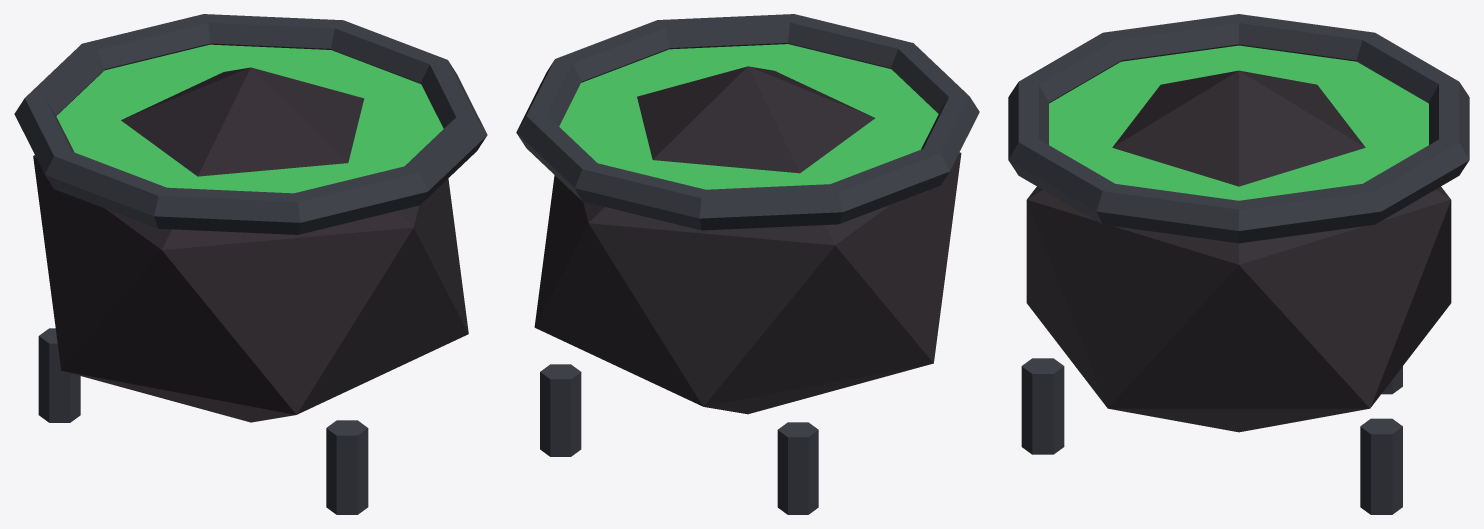
File: cauldron.glb
3 views of the same model, side by side, from view 1: azimuth 30°, elevation 25°; view 2: azimuth 150°, elevation 25°; view 3: azimuth 270°, elevation 25° (orthographic). The views are drawn at different scales.
Visible parts, largest first — view 1: cauldron; view 2: cauldron; view 3: cauldron.
Boxes of the visible parts, x1=… form: cauldron: x1=14, y1=14, x2=487, y2=514; cauldron: x1=516, y1=14, x2=979, y2=514; cauldron: x1=1008, y1=14, x2=1469, y2=514.
Size of the model in its own units: 1.36 by 1.17 by 1.29.
